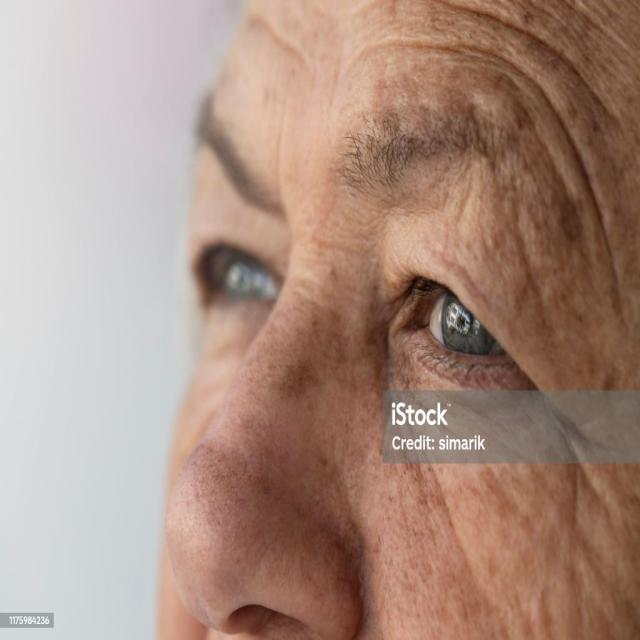Dry-Skin: (212, 374, 390, 579), (458, 418, 612, 636), (316, 0, 537, 111)
